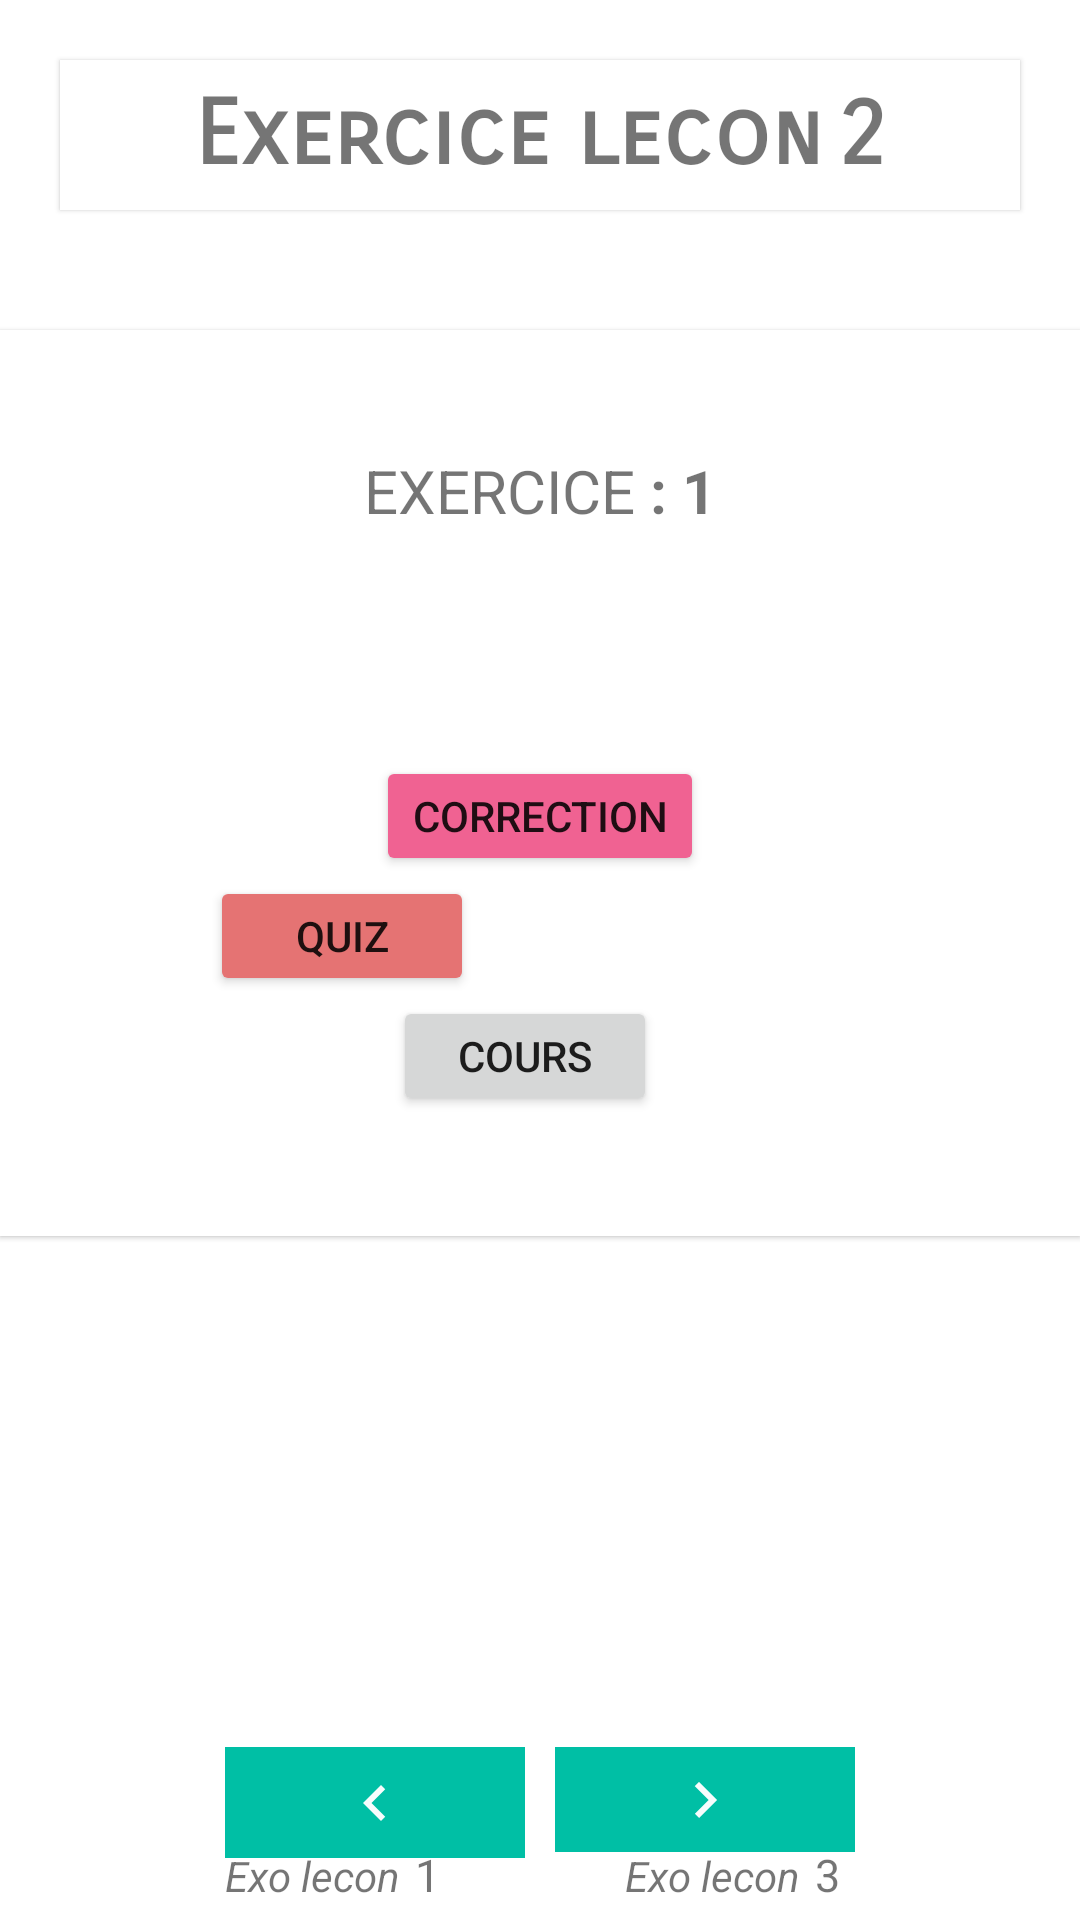

Named icons in this screenshot (1080w x 1920h) and their centers, (x,y):
left: (375,1802)
right: (705,1799)
